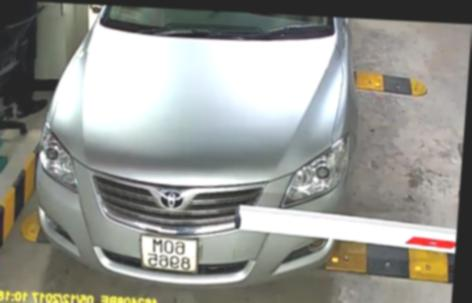License_Plate: (138, 231, 201, 275)
